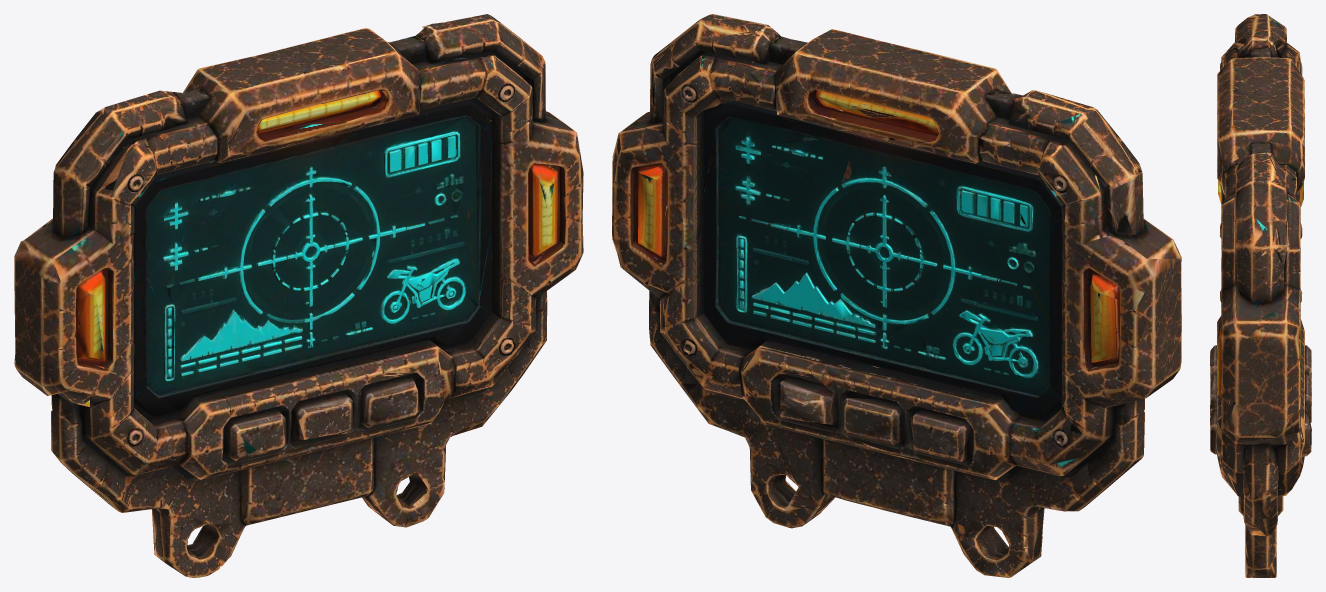
Rendered from steering_console.glb.
The picture shows the model from 3 angles, left to right: view 1: azimuth 30°, elevation 25°; view 2: azimuth 150°, elevation 25°; view 3: azimuth 270°, elevation 25°; orthographic projection. The views are drawn at different scales.
Visible parts, largest first — view 1: Steering_Console_60k; view 2: Steering_Console_60k; view 3: Steering_Console_60k.
Part boxes in pixels (x1,y1,x2,y2): Steering_Console_60k: [14, 14, 583, 577]; Steering_Console_60k: [612, 14, 1181, 577]; Steering_Console_60k: [1210, 14, 1311, 577].
Size of the model in its own units: 1.9 by 1.63 by 0.346.
1 material, 1 textured.
